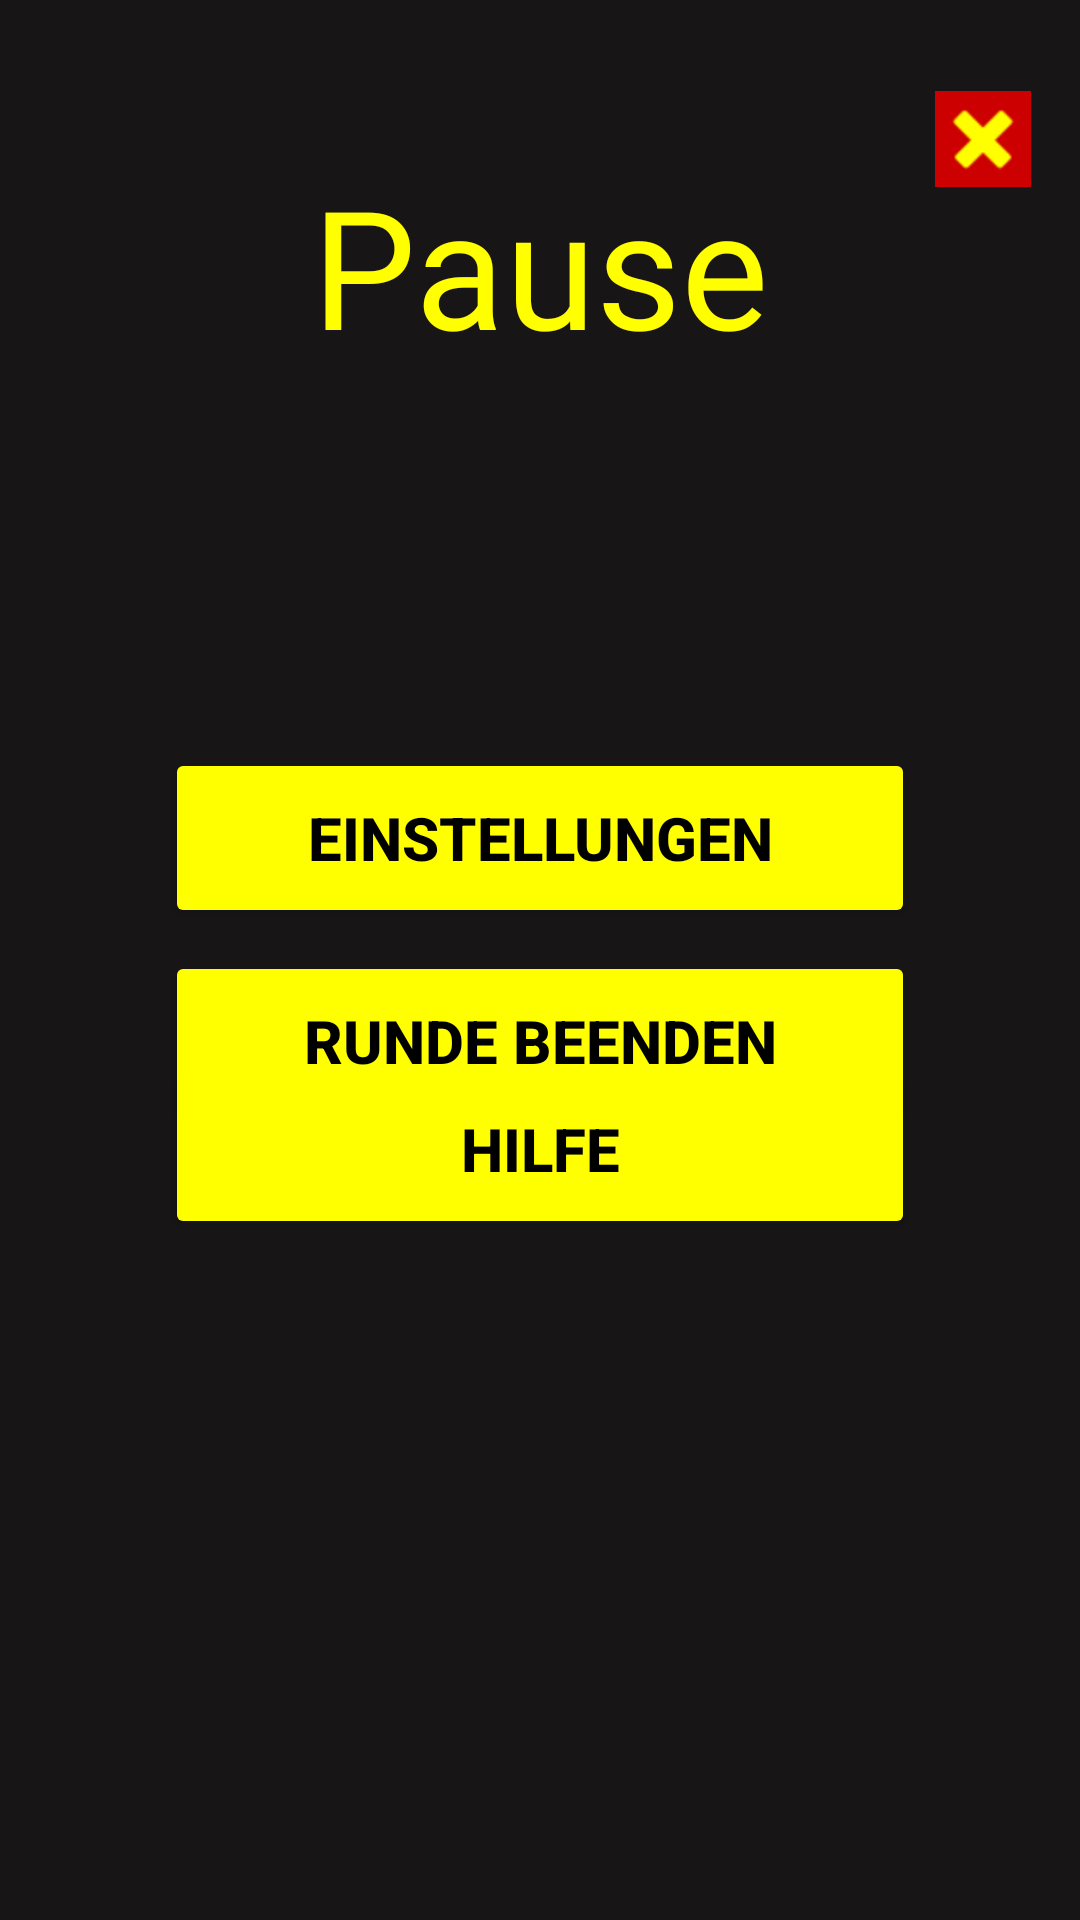

Where icons sit on this 1080 x 1920 app screen, as box(x1, y1, x2, y2):
delete: box(935, 91, 1031, 187)
